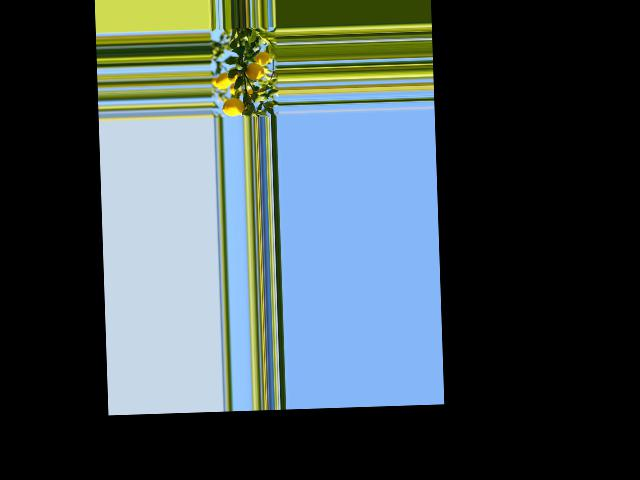lemon: (219, 96, 246, 117)
